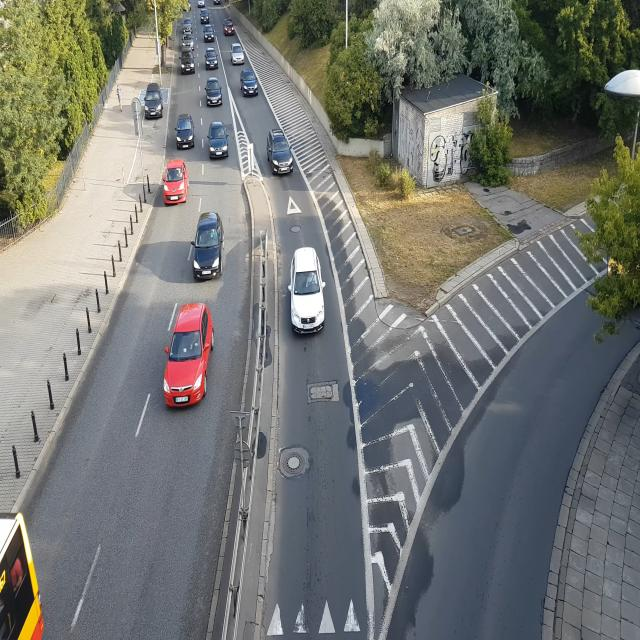car: (164, 304, 216, 412), (288, 245, 332, 336), (190, 212, 224, 281), (266, 130, 296, 176), (163, 159, 191, 206), (208, 123, 232, 158), (143, 88, 165, 119), (176, 116, 196, 150), (178, 49, 198, 78), (240, 70, 260, 98), (206, 78, 224, 108), (230, 44, 245, 64), (204, 48, 218, 68), (198, 10, 212, 25), (183, 34, 194, 52), (184, 16, 192, 36), (224, 22, 235, 36), (203, 27, 214, 41), (197, 0, 207, 7), (212, 0, 222, 5)
